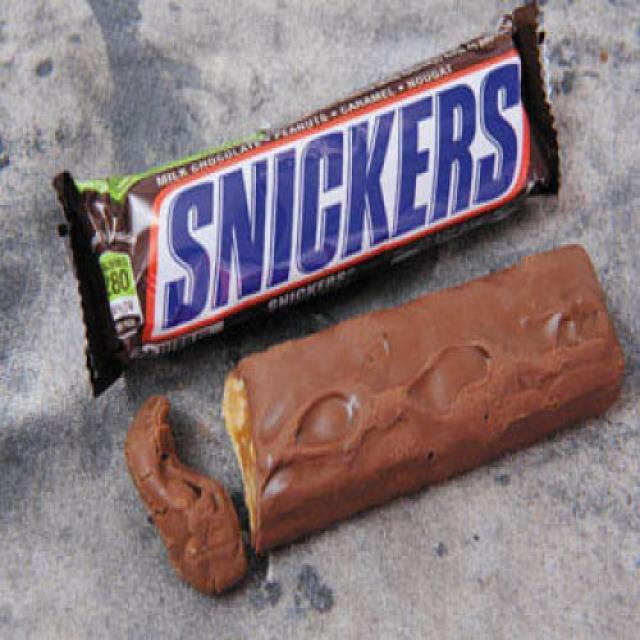Chocolate bar: (50, 2, 566, 394)
Chocolate bar packaged: (222, 248, 628, 566)
